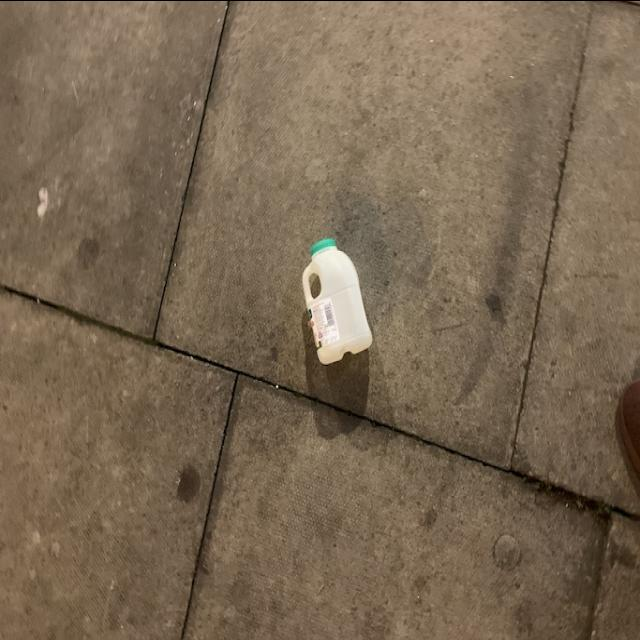HDPEM: (300, 234, 376, 364)
